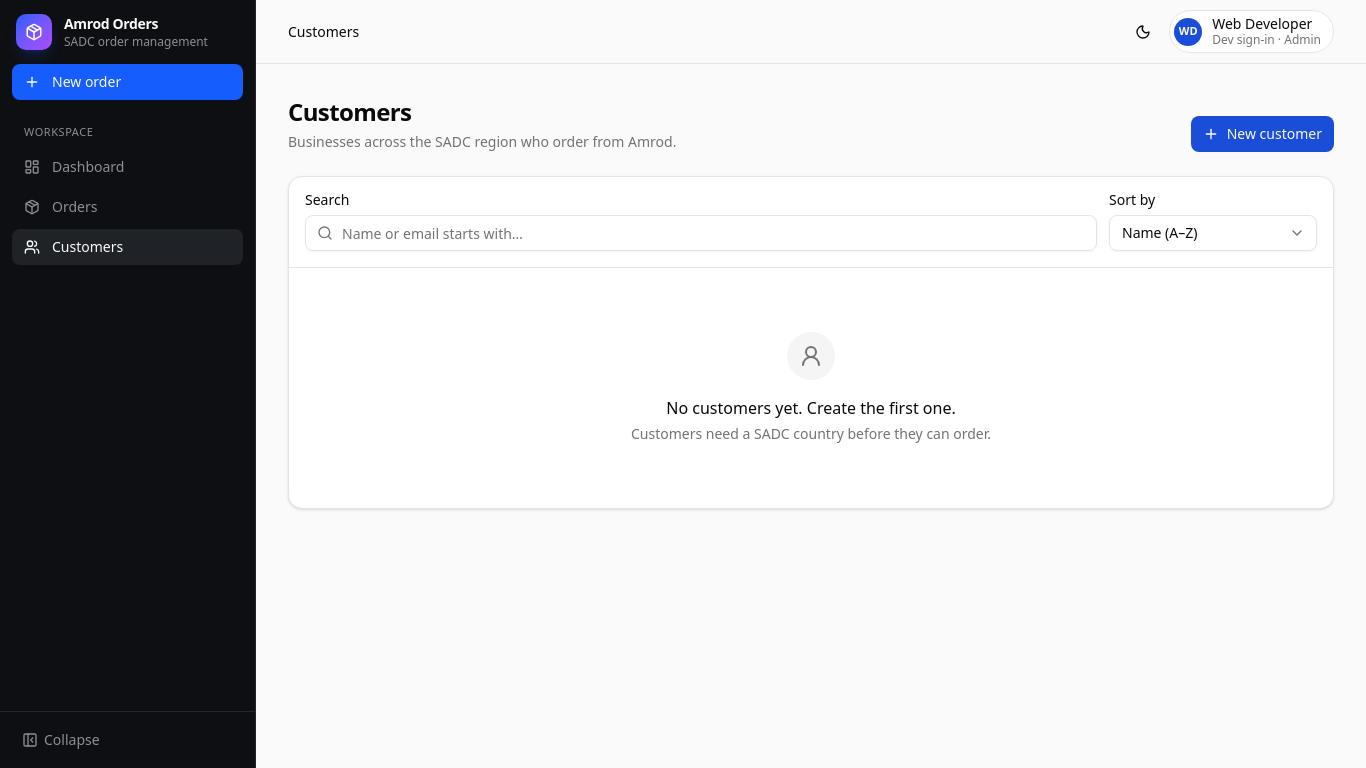
Test case: Customers page › searches as you type and keeps the search in the URL
The image size is (1366, 768).
Type "Eto" into the search field labelled "Search" at (701, 233), box [305, 215, 1097, 251]
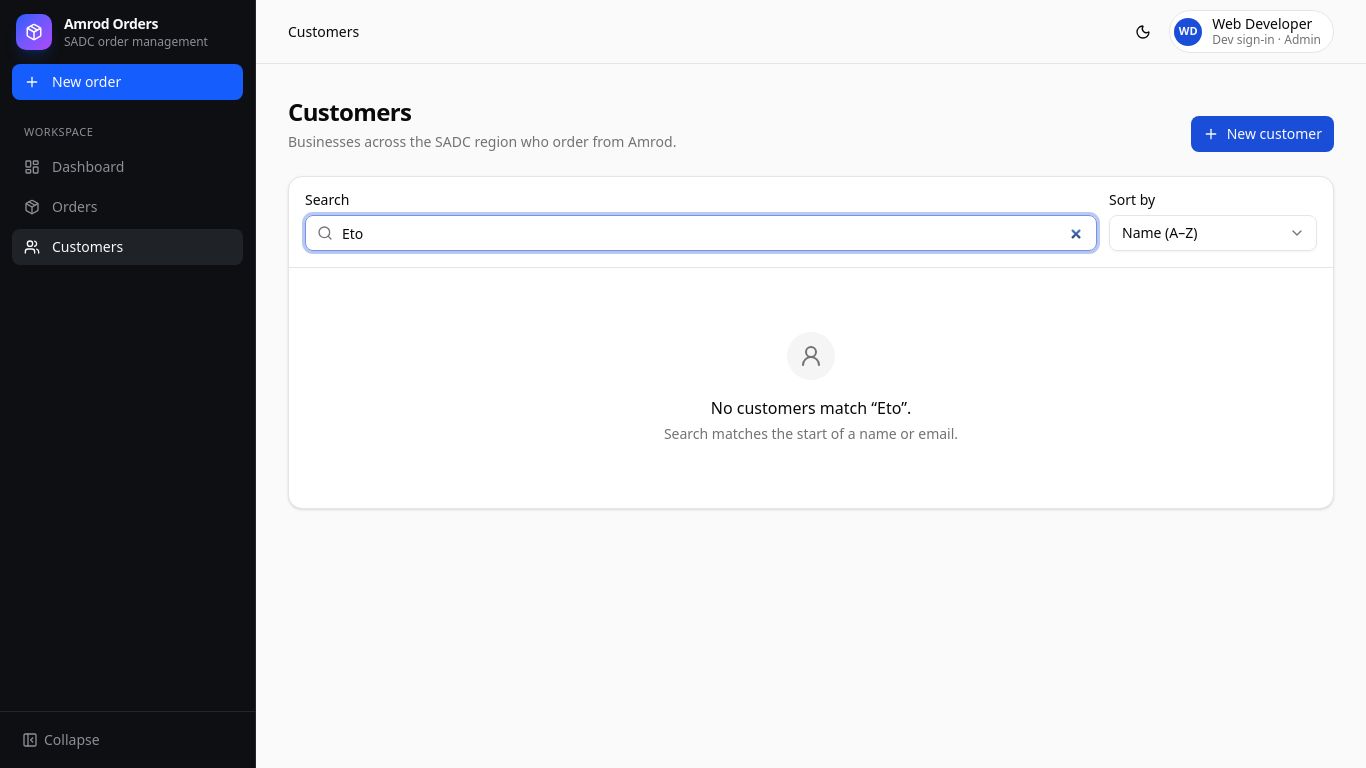
Now the text "No customers match “Eto”." is shown, box [711, 396, 911, 420]
